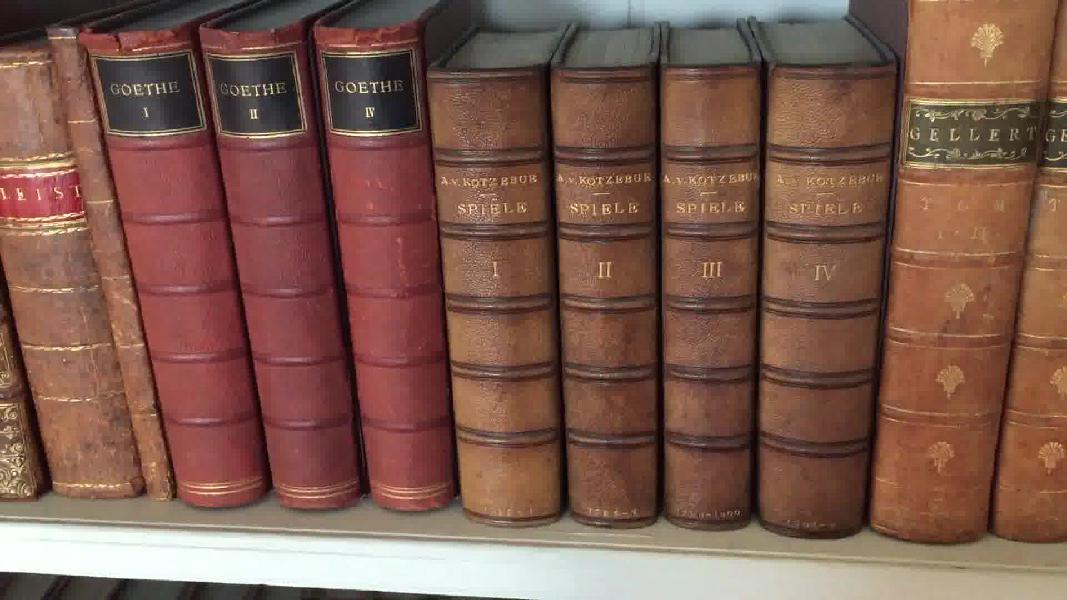Aa6-11_13: (74, 25, 475, 523)
Aa6-14_17: (408, 54, 897, 538)
